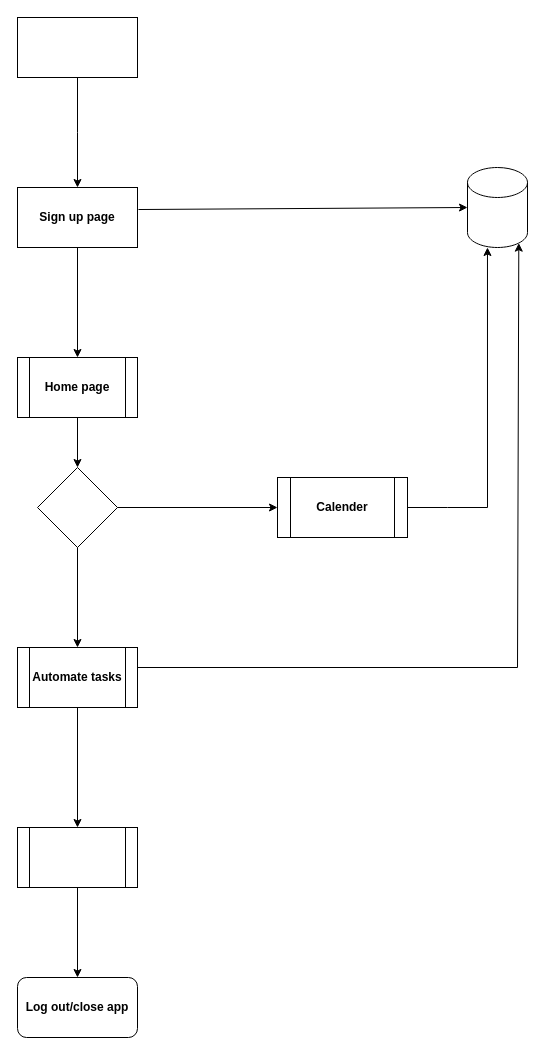
Image size: 545x1055. Some labels were removed from this diagram. Each missing label, with the centre of its shape:
Remainder: (77,857)
Splash screen: (77,47)
